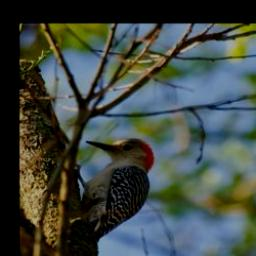Woodpecker: (65, 132, 173, 251)
